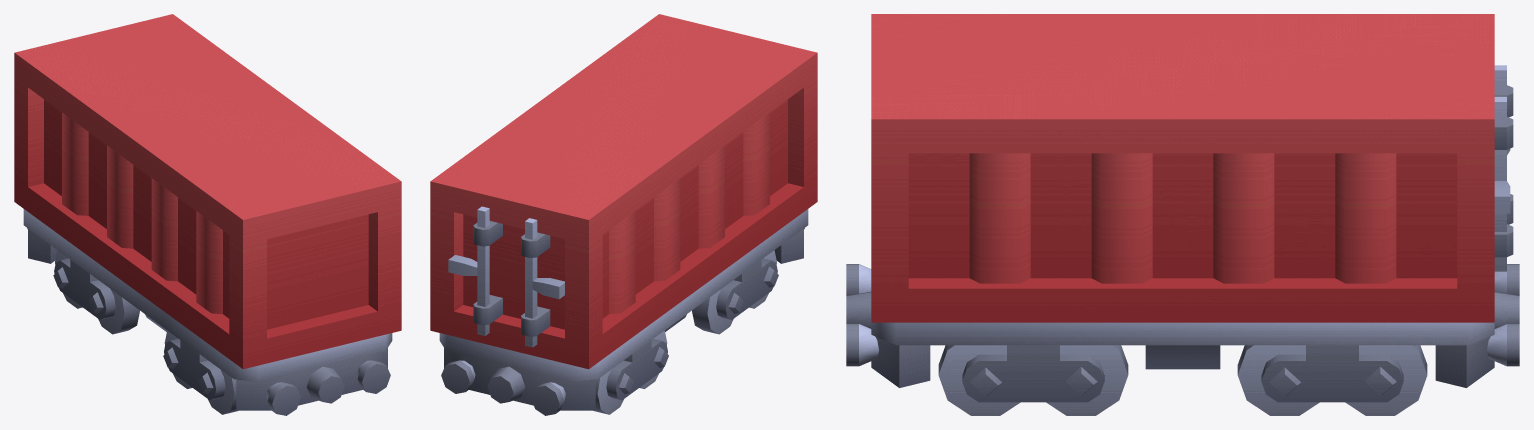
The model's file is train_carriage.glb.
3 views of the same model, side by side, from view 1: azimuth 30°, elevation 25°; view 2: azimuth 150°, elevation 25°; view 3: azimuth 270°, elevation 25° (orthographic). The views are drawn at different scales.
Visible parts, largest first — view 1: cargo, train-carriage-container-red, wheels-front, wheels-back; view 2: cargo, train-carriage-container-red, wheels-back, wheels-front; view 3: cargo, train-carriage-container-red, wheels-back, wheels-front.
Part boxes in pixels (<box>): cargo: <box>14,14,401,369</box>; train-carriage-container-red: <box>23,209,392,415</box>; wheels-front: <box>53,250,139,334</box>; wheels-back: <box>163,330,238,414</box>; cargo: <box>430,14,817,369</box>; train-carriage-container-red: <box>439,209,808,415</box>; wheels-back: <box>692,250,778,334</box>; wheels-front: <box>593,330,668,414</box>; cargo: <box>871,14,1513,322</box>; train-carriage-container-red: <box>846,264,1519,387</box>; wheels-back: <box>938,345,1128,415</box>; wheels-front: <box>1237,345,1427,415</box>.
Bounding box in the file's own units: 1 × 1.36 × 2.7.
Materials: 1 (1 with a texture image).
